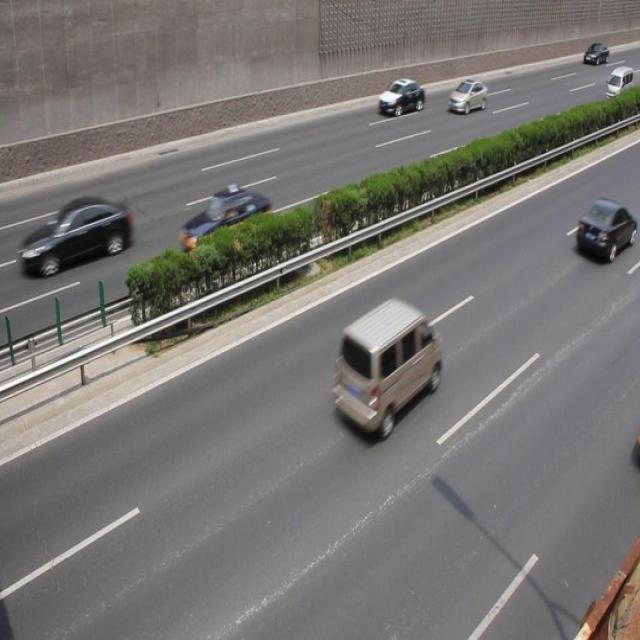car: (176, 184, 272, 264), (36, 196, 132, 272), (574, 195, 629, 262), (377, 76, 426, 116), (447, 79, 486, 115)
truck: (331, 299, 441, 437)
